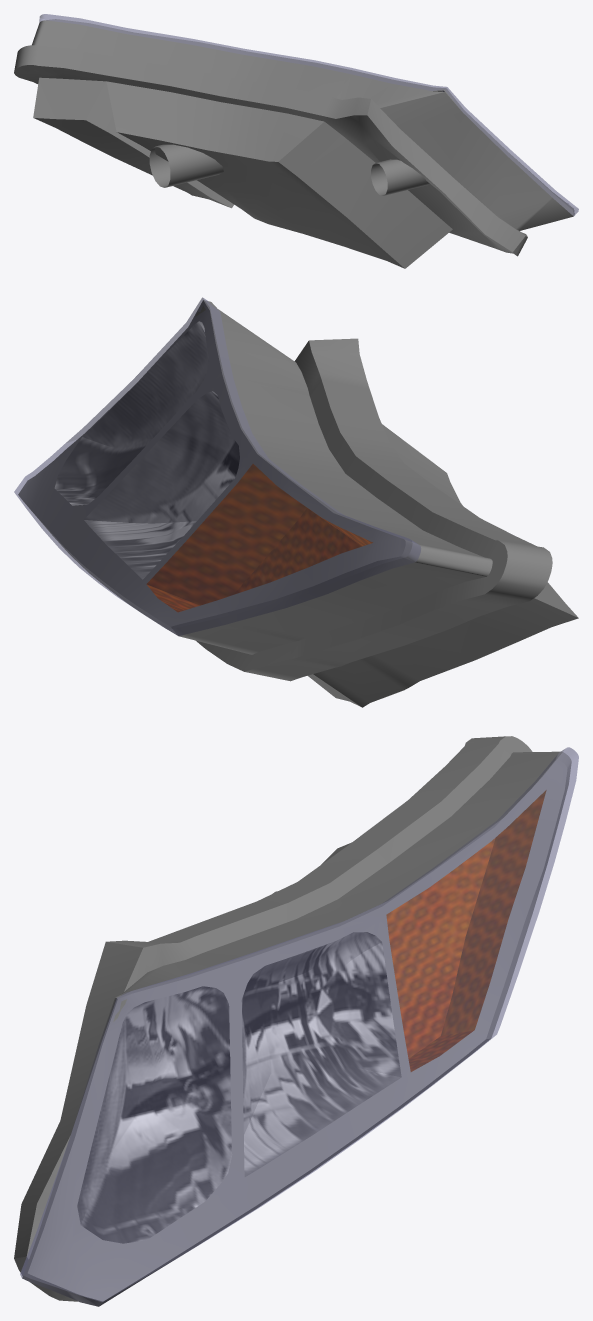
3 renders of one model, top to bottom at view 1: azimuth 30°, elevation 25°; view 2: azimuth 150°, elevation 25°; view 3: azimuth 270°, elevation 25°, orthographic. The views are drawn at different scales.
Parts seen in each view (by area): view 1: H033_061B_L_H033_061B_L_4_DaS, H033_061B_L_H033_061B_L_5_DTaSI; view 2: H033_061B_L_H033_061B_L_4_DaS, H033_061B_L_H033_061B_L_5_DTaSI, H033_061B_L_1_N_H033_061B_L, H033_061B_L_H033_061B_L_2_N, H033_061B_L_H033_061B_L_3_N; view 3: H033_061B_L_H033_061B_L_5_DTaSI, H033_061B_L_H033_061B_L_4_DaS, H033_061B_L_H033_061B_L_3_N, H033_061B_L_H033_061B_L_2_N, H033_061B_L_1_N_H033_061B_L.
Part boxes in pixels (x1,y1,x2,y2): H033_061B_L_H033_061B_L_4_DaS: (14, 19, 574, 268); H033_061B_L_H033_061B_L_5_DTaSI: (39, 14, 578, 215); H033_061B_L_H033_061B_L_4_DaS: (18, 300, 578, 707); H033_061B_L_H033_061B_L_5_DTaSI: (14, 297, 420, 635); H033_061B_L_1_N_H033_061B_L: (146, 464, 372, 612); H033_061B_L_H033_061B_L_2_N: (84, 391, 239, 579); H033_061B_L_H033_061B_L_3_N: (55, 321, 209, 505); H033_061B_L_H033_061B_L_5_DTaSI: (20, 747, 578, 1306); H033_061B_L_H033_061B_L_4_DaS: (14, 736, 571, 1306); H033_061B_L_H033_061B_L_3_N: (77, 986, 232, 1243); H033_061B_L_H033_061B_L_2_N: (241, 932, 401, 1176); H033_061B_L_1_N_H033_061B_L: (386, 790, 546, 1071).
Size of the model in its own units: 54.09 by 25.2 by 39.61.
